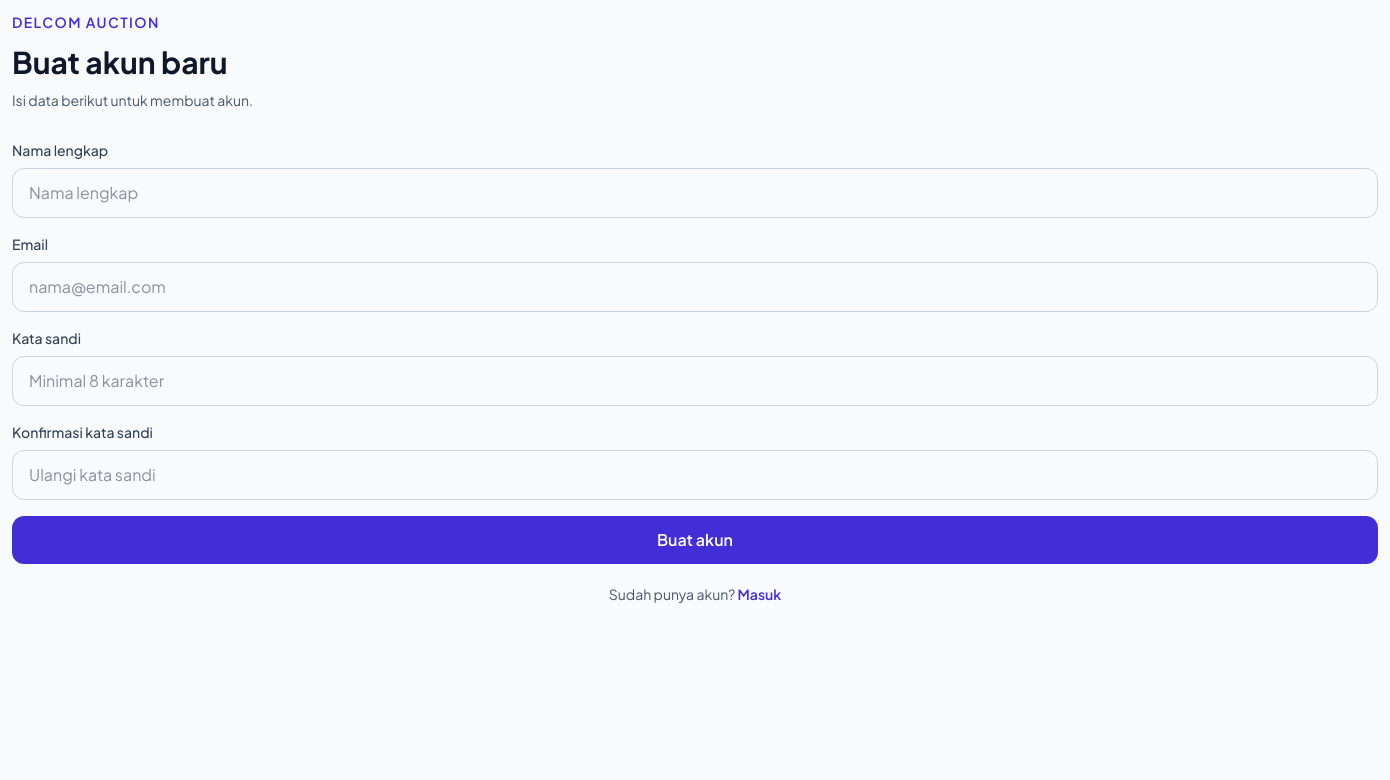
RegisterPage › validasi form {"email":"salah"}
This screenshot has width=1390, height=780.
In the field with id "register-name": (695, 193) x1=12 y1=168 x2=1378 y2=218, type "Budi"
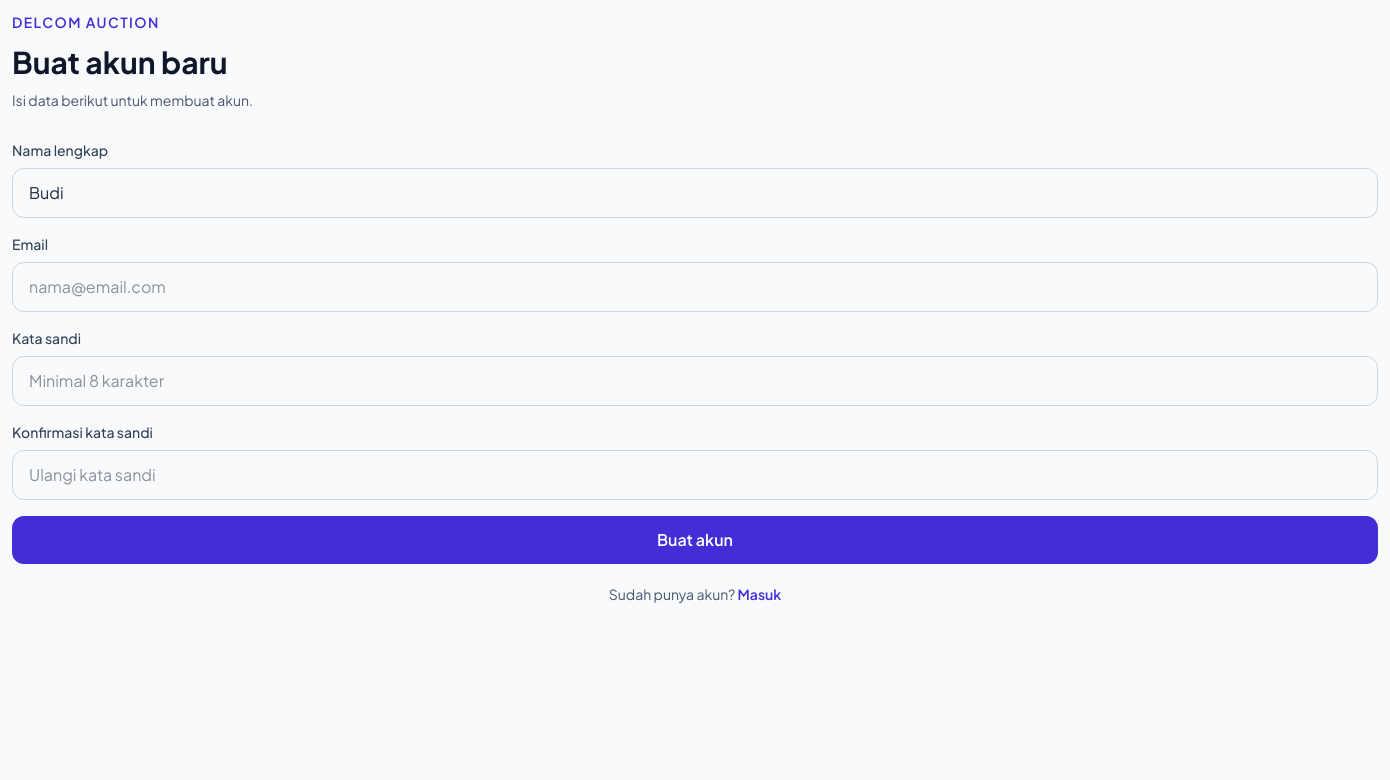
In the field with id "register-email": (695, 287) x1=12 y1=262 x2=1378 y2=312, type "salah"
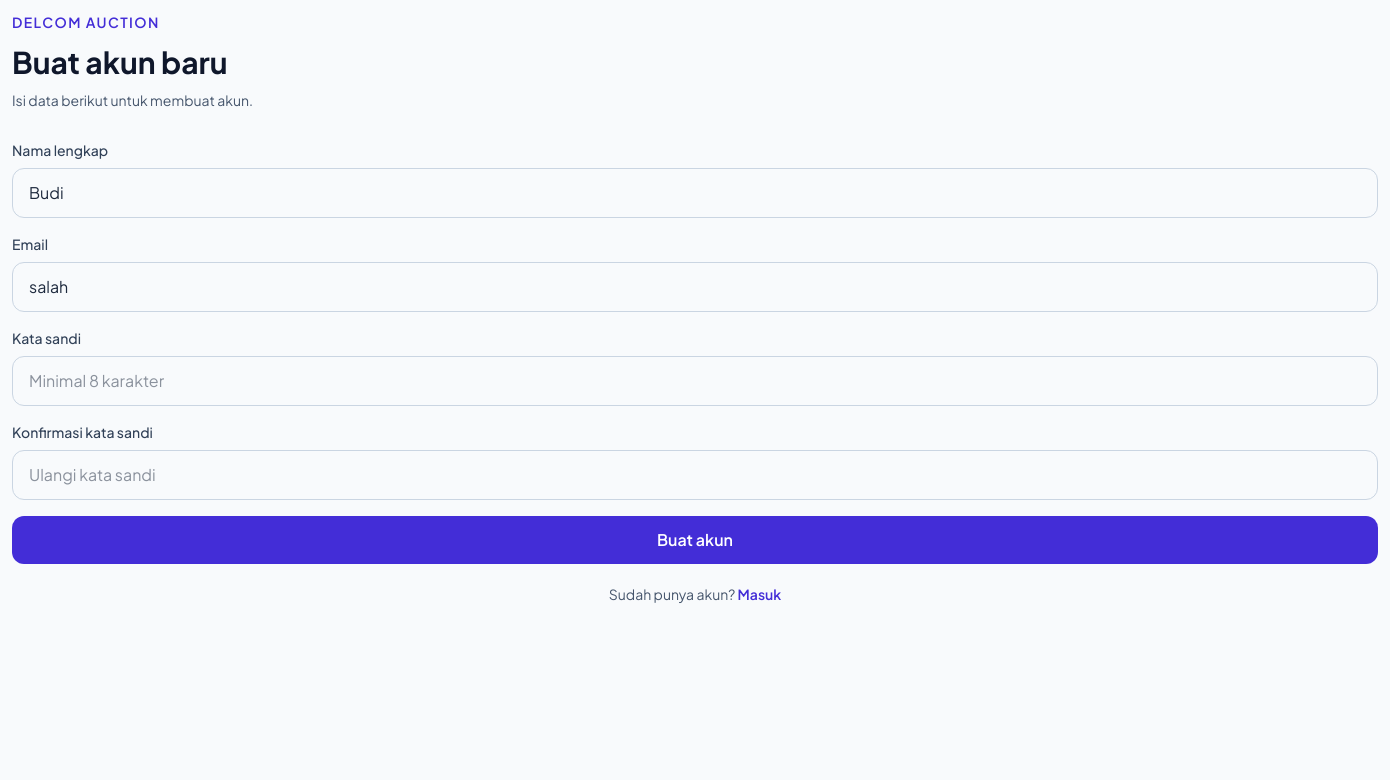
In the password field with id "register-password": (695, 381) x1=12 y1=356 x2=1378 y2=406, type "rahasia123"
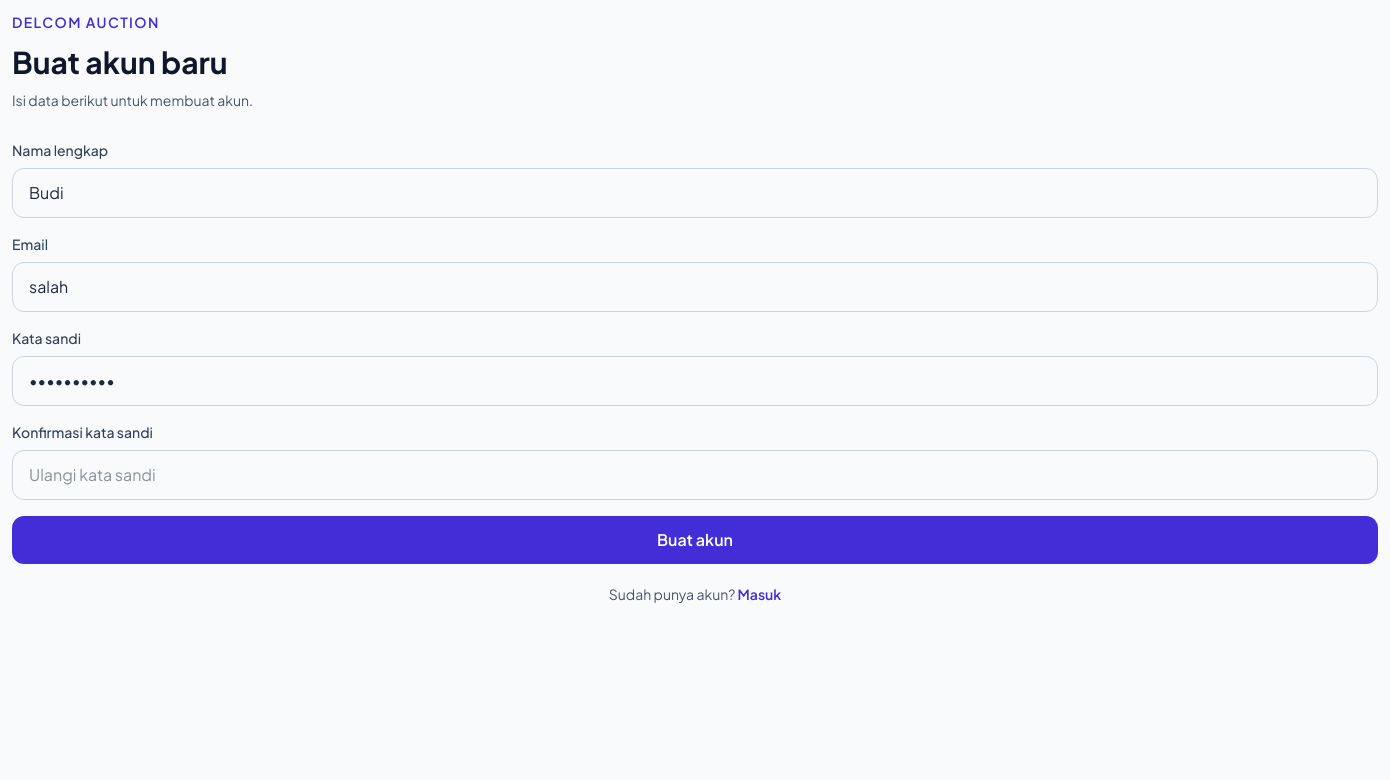
In the password field with id "register-confirm-password": (695, 475) x1=12 y1=450 x2=1378 y2=500, type "rahasia123"
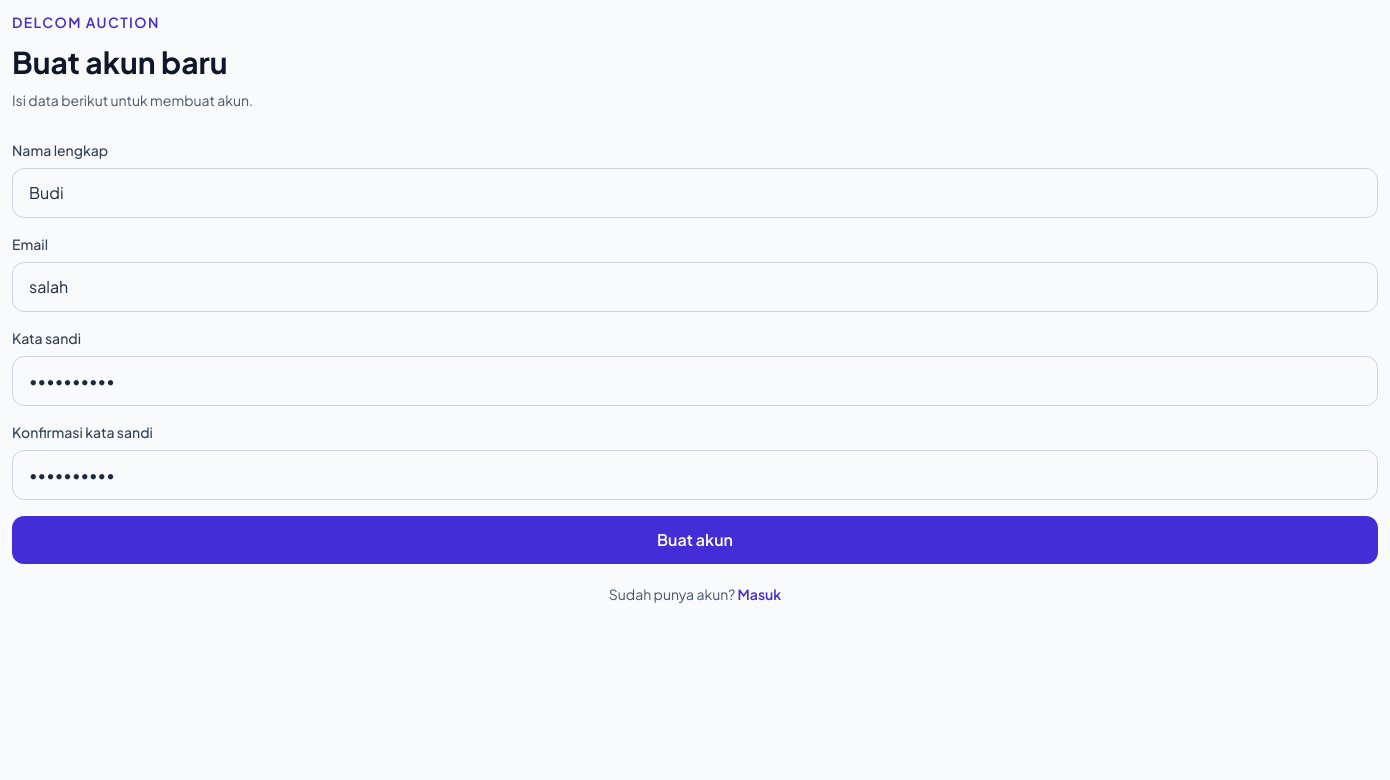
Submit the form, box x1=12 y1=140 x2=1378 y2=564
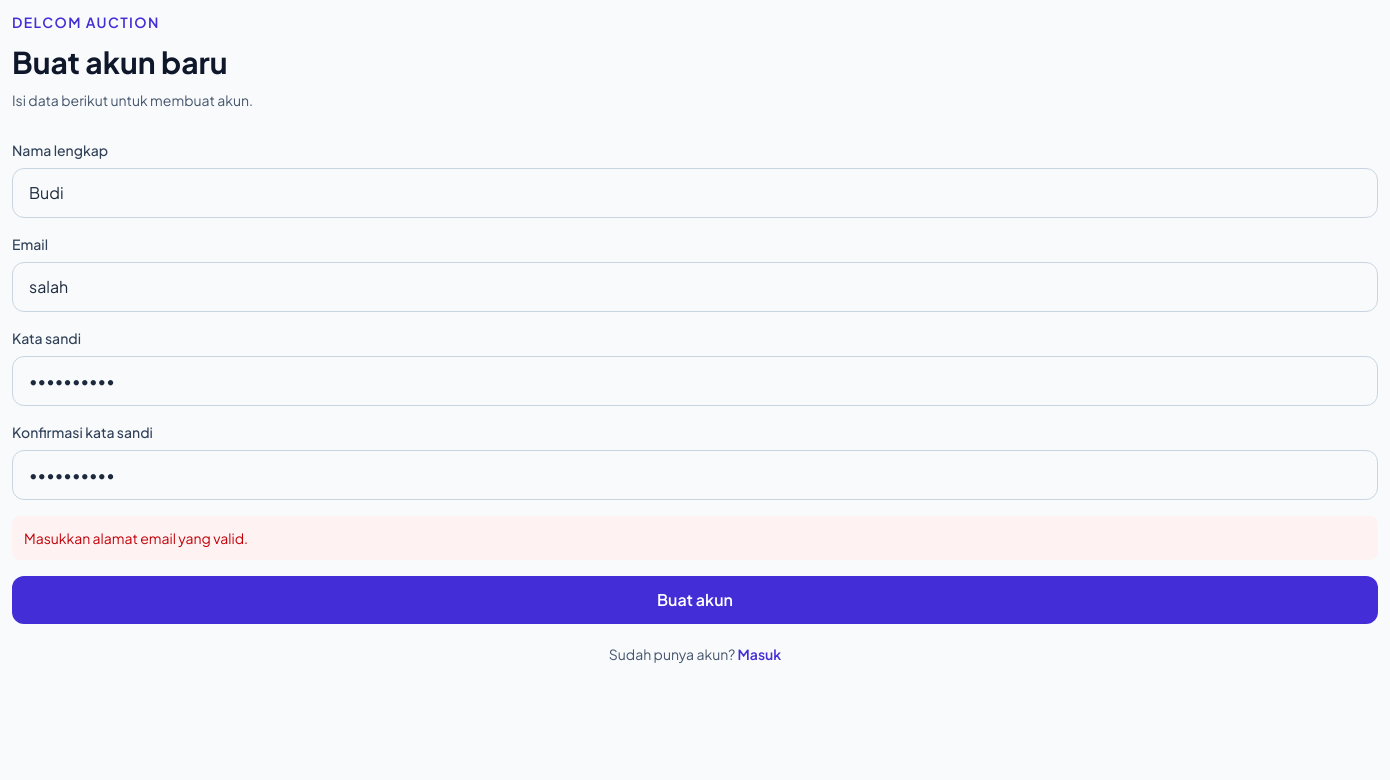
expect the message "Masukkan alamat email yang valid." is shown: met, box x1=12 y1=516 x2=1378 y2=560
